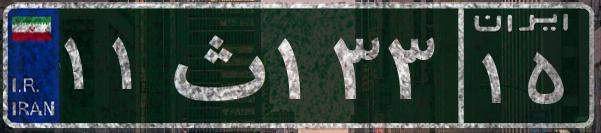1: (273, 28, 330, 110), (57, 26, 110, 107), (475, 38, 525, 113), (110, 28, 158, 105)
3: (385, 28, 445, 110), (330, 28, 385, 110)
5: (525, 38, 570, 115)
ث: (158, 15, 273, 115)
